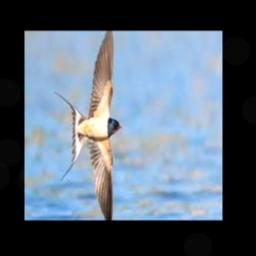Swallow: (53, 30, 121, 220)
